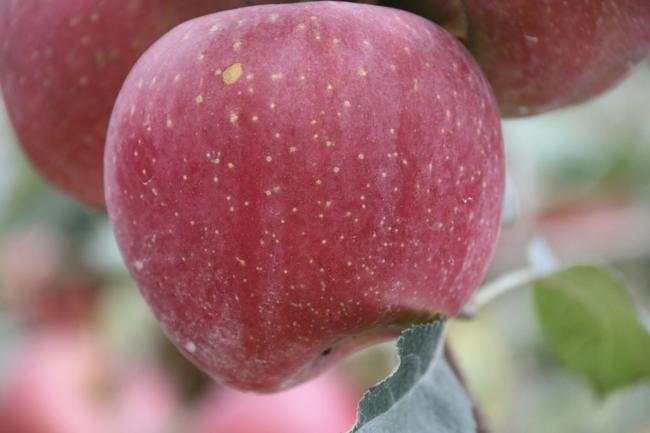apple: (105, 2, 506, 385), (2, 1, 203, 211), (409, 0, 643, 119)
